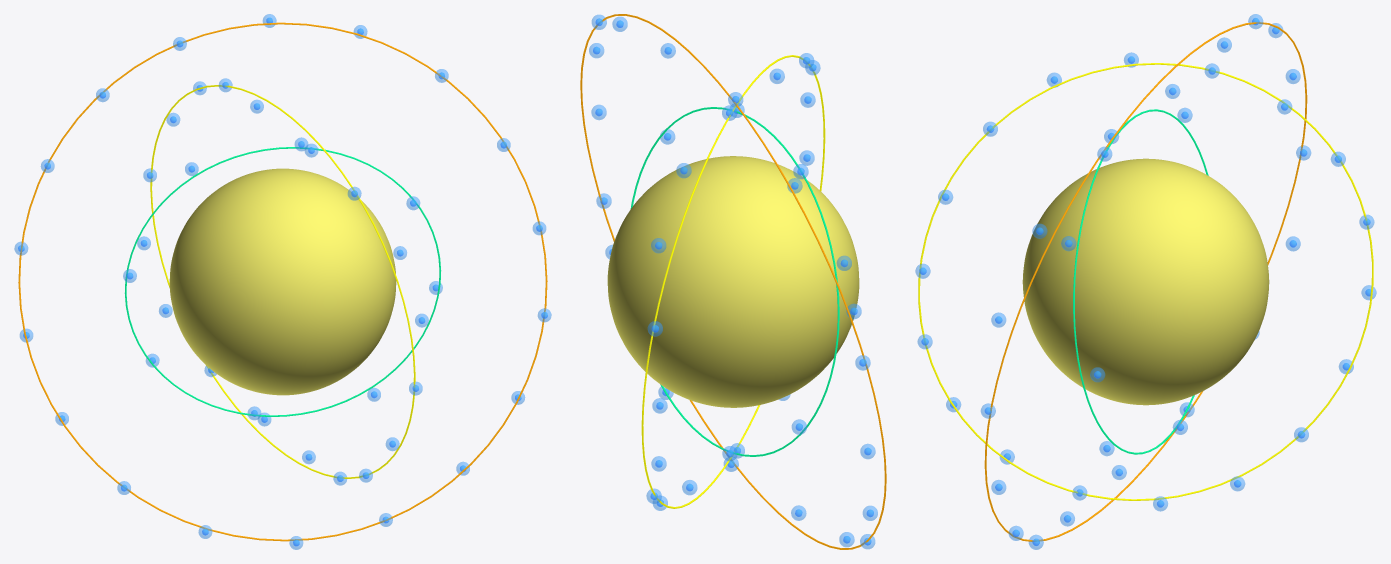
The picture shows the model from 3 angles, left to right: view 1: azimuth 30°, elevation 25°; view 2: azimuth 150°, elevation 25°; view 3: azimuth 270°, elevation 25°; orthographic projection. The views are drawn at different scales.
Visible parts, largest first — view 1: Pd, object 61, object 24, object 7; view 2: Pd, object 61, object 24, object 7; view 3: Pd, object 24, object 61, object 7.
Part boxes in pixels (x1,y1,x2,y2): Pd: (169, 168, 396, 395); object 61: (18, 22, 547, 541); object 24: (150, 85, 415, 478); object 7: (124, 147, 441, 416); Pd: (607, 156, 859, 407); object 61: (580, 14, 886, 549); object 24: (641, 55, 825, 508); object 7: (630, 107, 839, 456); Pd: (1022, 158, 1269, 405); object 24: (918, 63, 1373, 500); object 61: (984, 22, 1307, 541); object 7: (1073, 109, 1208, 454).
Size of the model in its own units: 5.19 by 5.91 by 4.83.
